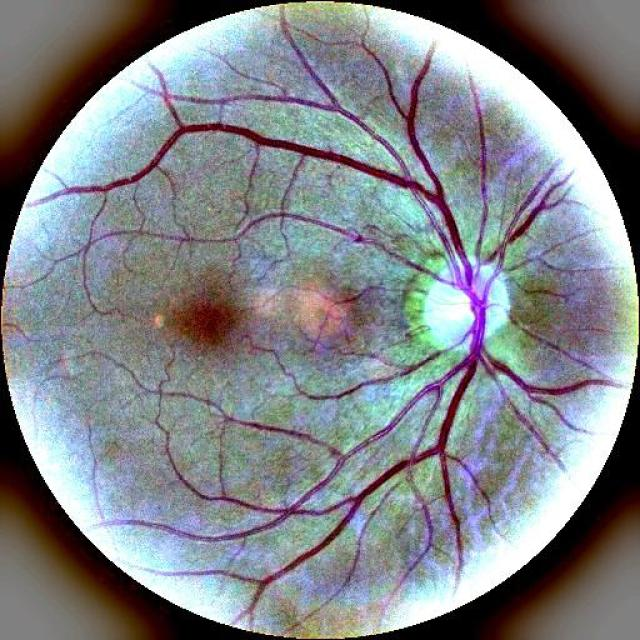Macula: (170, 278, 247, 366)
Nerves: (31, 70, 619, 585), (505, 309, 596, 369)
Optic Disk: (421, 255, 513, 347)
